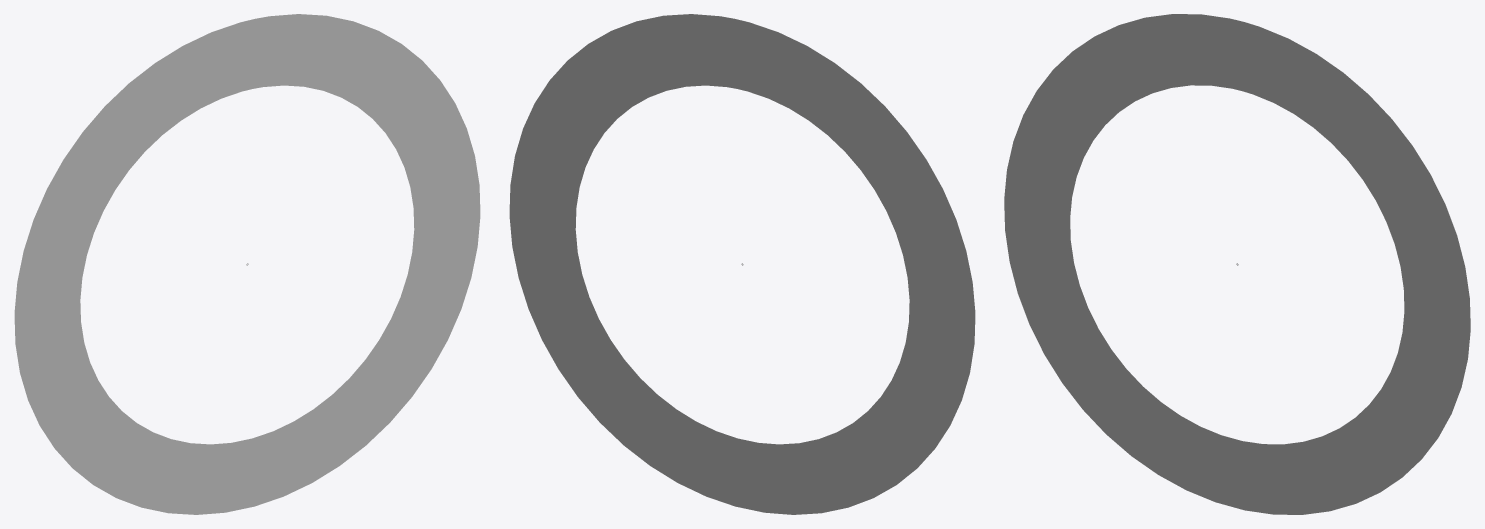
File: pref_BattleSkillTrainerSkillBtn.fbx
3 renders of one model, left to right at view 1: azimuth 30°, elevation 25°; view 2: azimuth 150°, elevation 25°; view 3: azimuth 330°, elevation 25°, orthographic.
Visible parts, largest first — view 1: CountdownTrans; view 2: CountdownTrans; view 3: CountdownTrans.
Boxes of the visible parts, bbox=[...] form: CountdownTrans: bbox=[14, 14, 480, 514]; CountdownTrans: bbox=[509, 14, 975, 514]; CountdownTrans: bbox=[1004, 14, 1470, 514].
Size of the model in its own units: 24343 by 24344 by 0.01.
